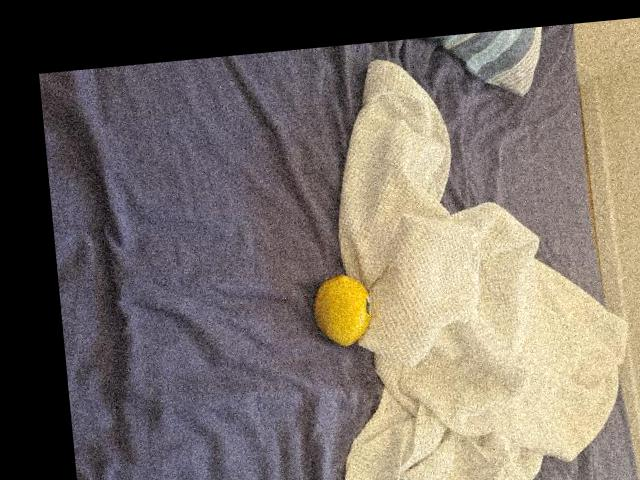lemon: (312, 270, 373, 350)
